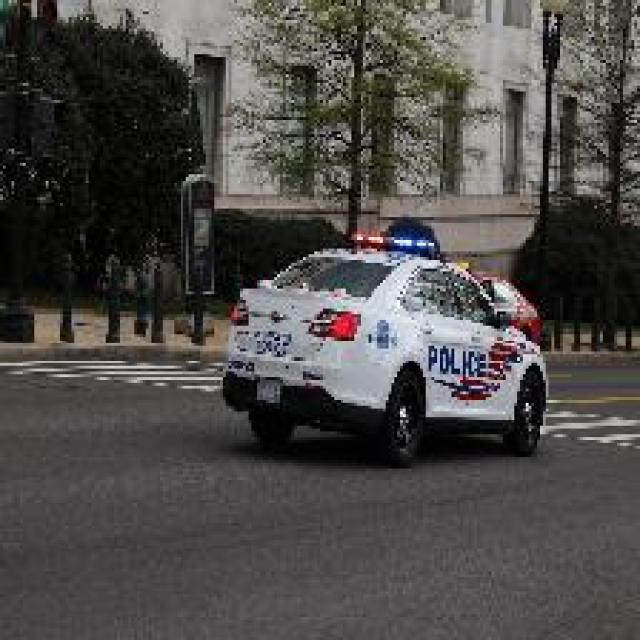Police-car: (220, 220, 549, 466)
